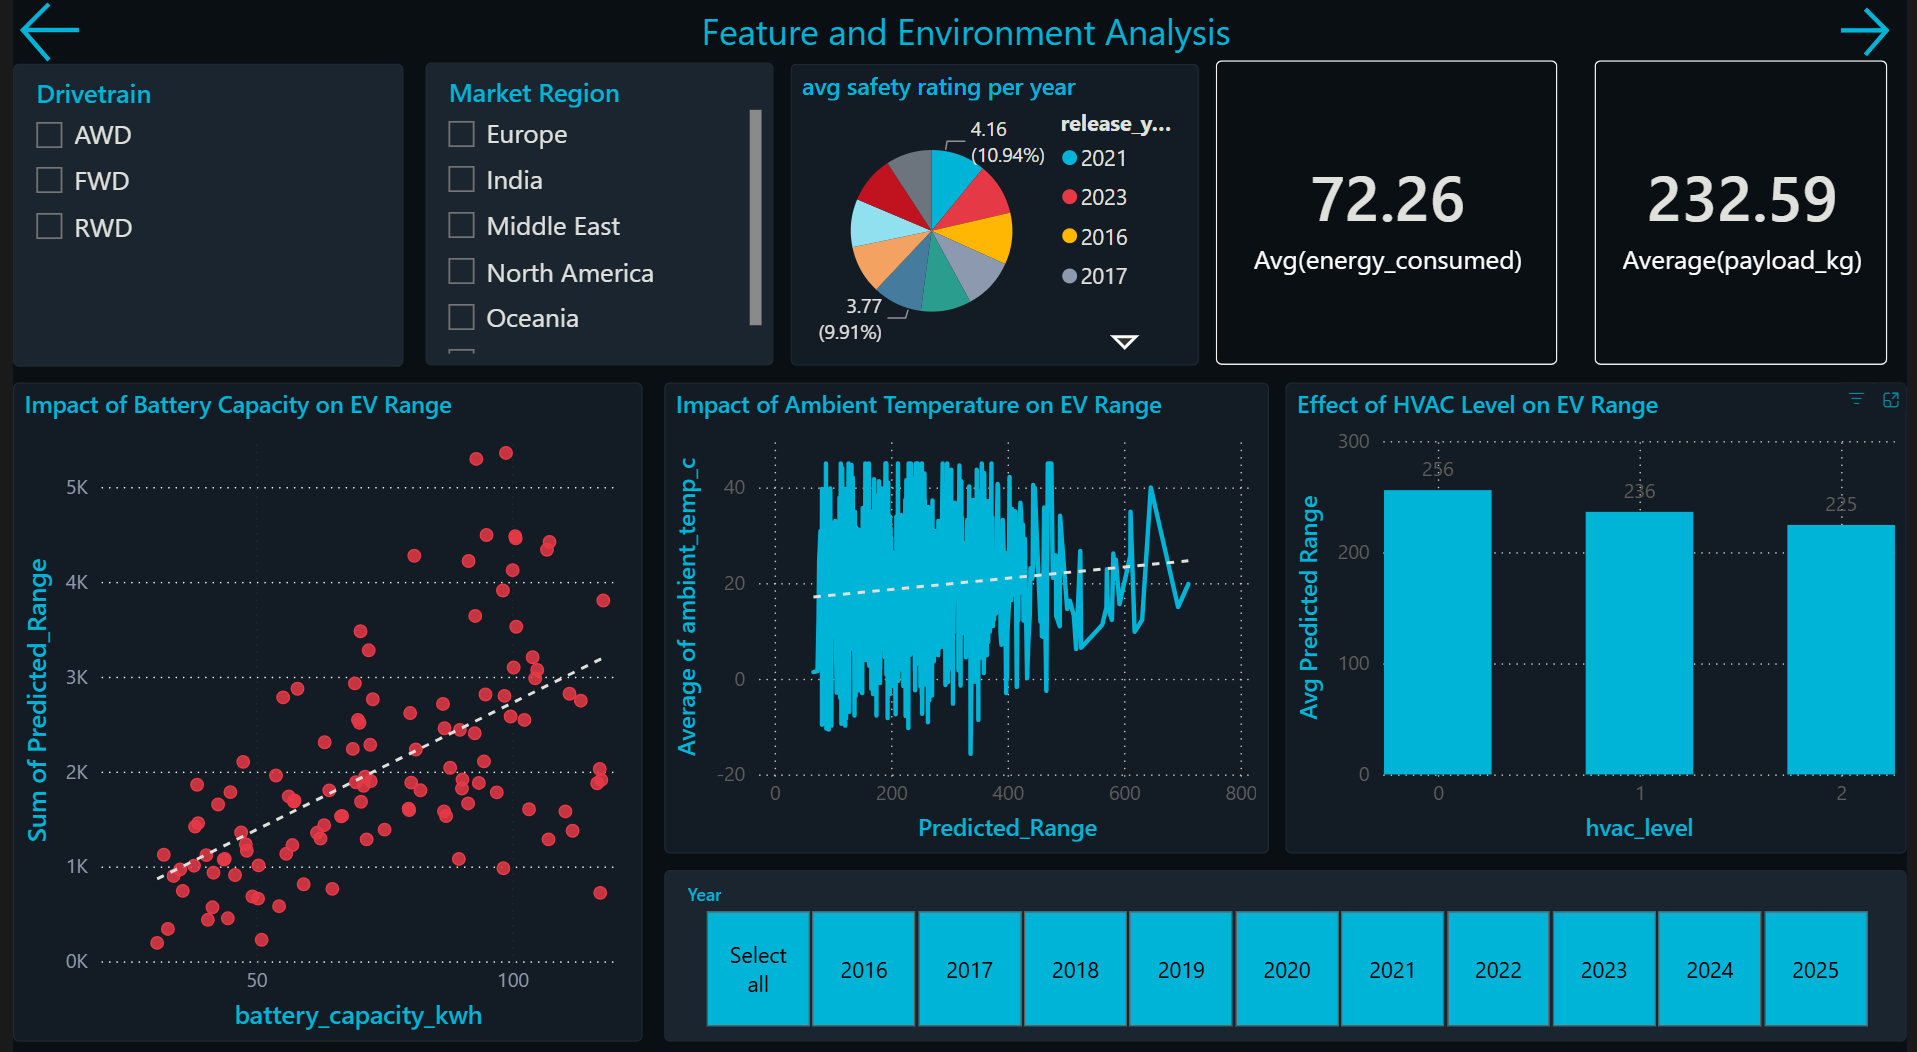

Layout of this report page (visuals, bound fields, positions):
{"tool":"powerbi","page":{"name":"Feature and Environmental Analysis","canvas":[1280,720],"ordinal":2},"visuals":[{"type":"textbox","box":[232.3,0,823.8,57.7],"z":0},{"type":"cardVisual","fields":{"Data":["Avg(EV_Range_Predictions.energy_consumed_kwh)"]},"box":[801.4,28.6,255.7,230],"z":1000},{"type":"cardVisual","fields":{"Data":["Avg(EV_Range_Predictions.payload_kg)"]},"box":[1057.1,28.6,222.9,230],"z":2000},{"type":"slicer","fields":{"Values":["EV_Range_Predictions.Drivetrain"]},"box":[0,43.3,264,204.9],"z":3000},{"type":"slicer","fields":{"Values":["EV_Range_Predictions.Market Region"]},"box":[278.5,41.8,235.2,204.9],"z":4000},{"type":"scatterChart","title":"Impact of Battery Capacity on EV Range","fields":{"X":["EV_Range_Predictions.battery_capacity_kwh"],"Y":["Sum(EV_Range_Predictions.Predicted_Range)"]},"box":[0,258.6,425.7,445.7],"z":5000},{"type":"lineChart","title":"Impact of Ambient Temperature on EV Range","fields":{"Category":["EV_Range_Predictions.Predicted_Range"],"Y":["Avg(EV_Range_Predictions.ambient_temp_c)"]},"box":[440,258.6,408.6,318.6],"z":6000},{"type":"clusteredColumnChart","title":"Effect of HVAC Level on EV Range","fields":{"Category":["EV_Range_Predictions.hvac_level"],"Y":["EV_Range_Predictions.Avg Predicted Range"]},"box":[860,258.6,420,318.6],"z":7000},{"type":"actionButton","box":[0,0,50.5,43.3],"z":8000},{"type":"pieChart","title":"avg safety rating per year","fields":{"Category":["EV_Range_Predictions.release_year"],"Y":["Avg(EV_Range_Predictions.safety_rating)"]},"box":[525.7,42.9,275.7,204.3],"z":10000},{"type":"actionButton","box":[1229.2,0,50.5,43.3],"z":11000},{"type":"slicer","fields":{"Values":["EV_Range_Predictions.Release Date.Variation.Date Hierarchy.Year"]},"box":[440,588,840,116],"z":11003}]}

Visuals, with their boxes in screenshot pixels (x1, y1, x2, y2), scaled from the page's 1280x720 canvas onto the 1917x1052 screenshot:
textbox: [348,0,1582,84]
cardVisual - Avg(EV_Range_Predictions.energy_consumed_kwh): [1200,42,1583,378]
cardVisual - Avg(EV_Range_Predictions.payload_kg): [1583,42,1916,378]
slicer - EV_Range_Predictions.Drivetrain: [0,63,395,363]
slicer - EV_Range_Predictions.Market Region: [417,61,769,360]
"Impact of Battery Capacity on EV Range" scatterChart: [0,378,638,1029]
"Impact of Ambient Temperature on EV Range" lineChart: [659,378,1271,843]
"Effect of HVAC Level on EV Range" clusteredColumnChart: [1288,378,1916,843]
actionButton: [0,0,76,63]
"avg safety rating per year" pieChart: [787,63,1200,361]
actionButton: [1841,0,1916,63]
slicer - EV_Range_Predictions.Release Date.Variation.Date Hierarchy.Year: [659,859,1916,1029]
